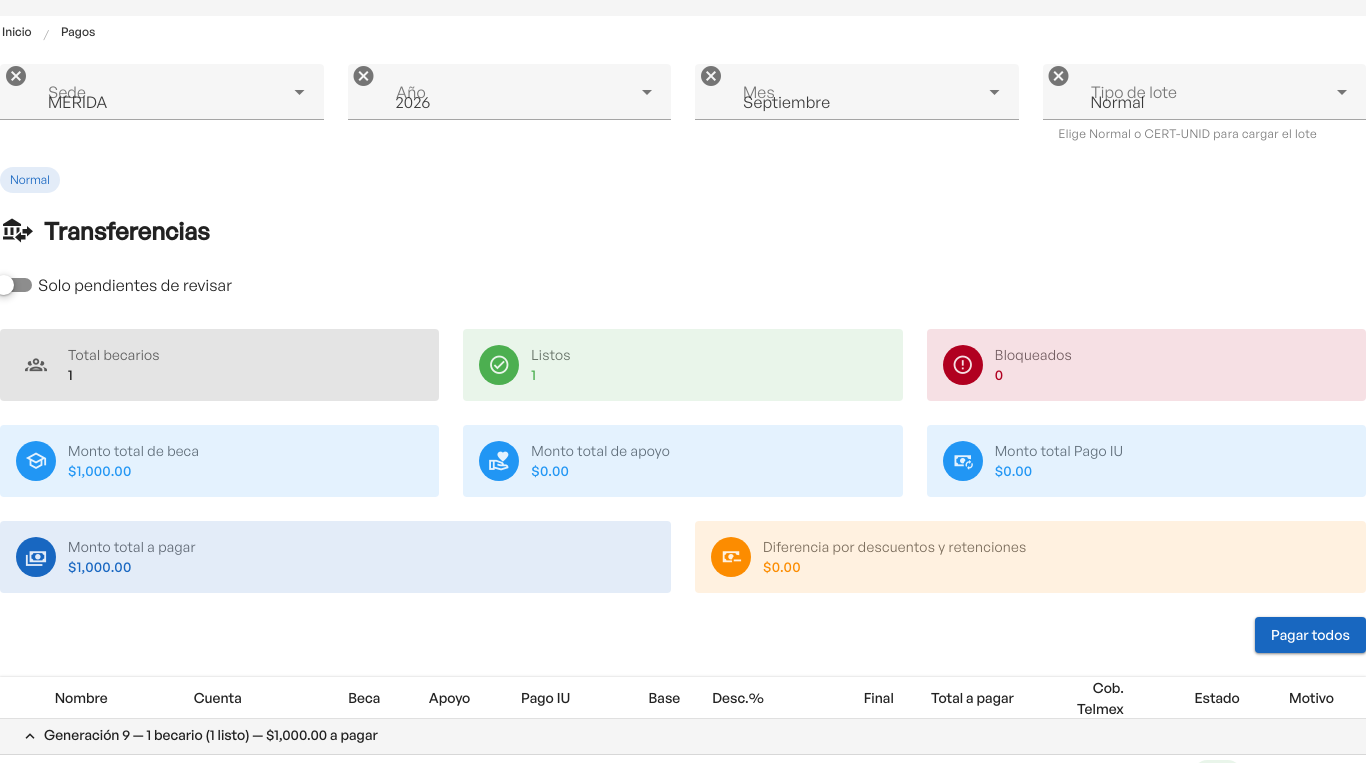
Scenario: PaymentsView › shows a distinct message when "Pagar todos" fails because the batch is stale (409 without batch_id)
What coordinates should you click on to do the following:
click the button "Pagar todos"
I would click on:
 (1310, 635)
Its box is [1255, 617, 1365, 653].
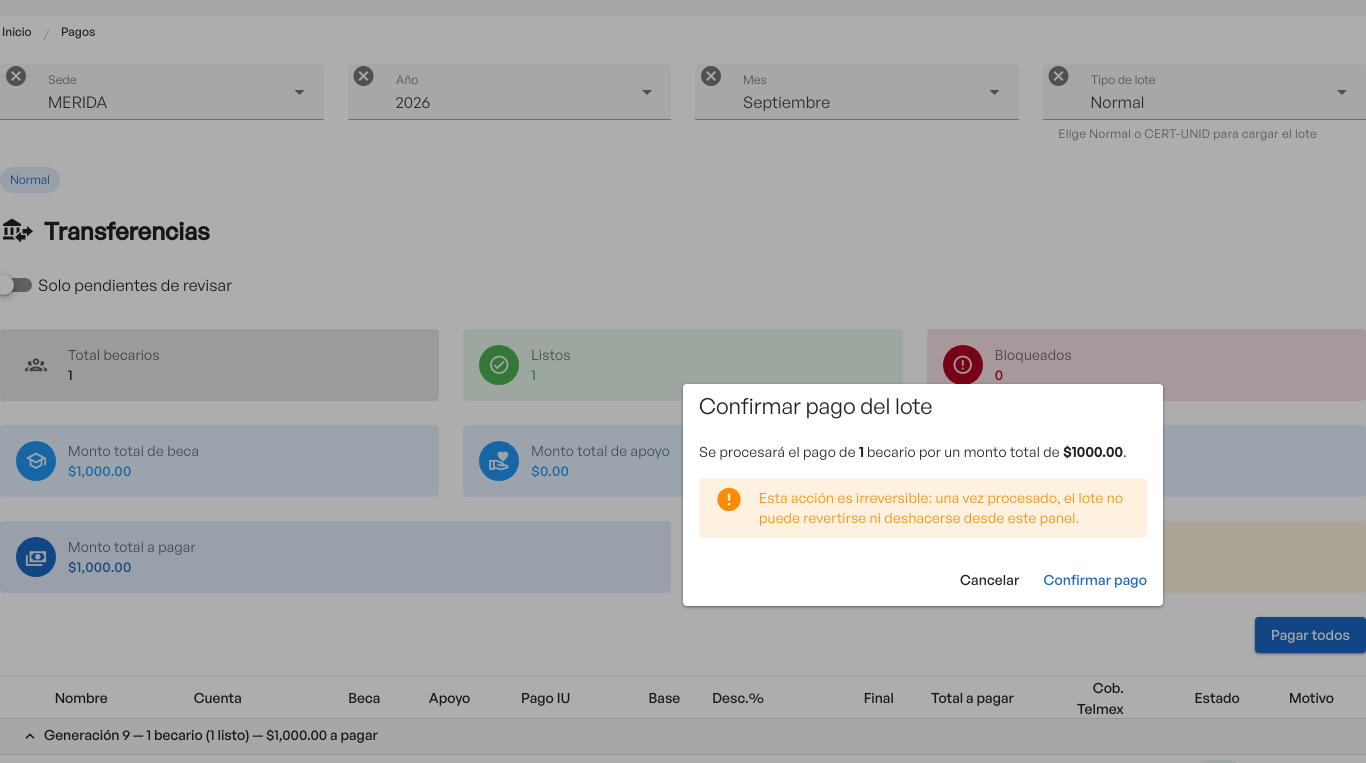
What coordinates should you click on to do the following:
click the button "Confirmar pago"
I would click on:
 (1095, 580)
Its box is [1035, 562, 1155, 598].
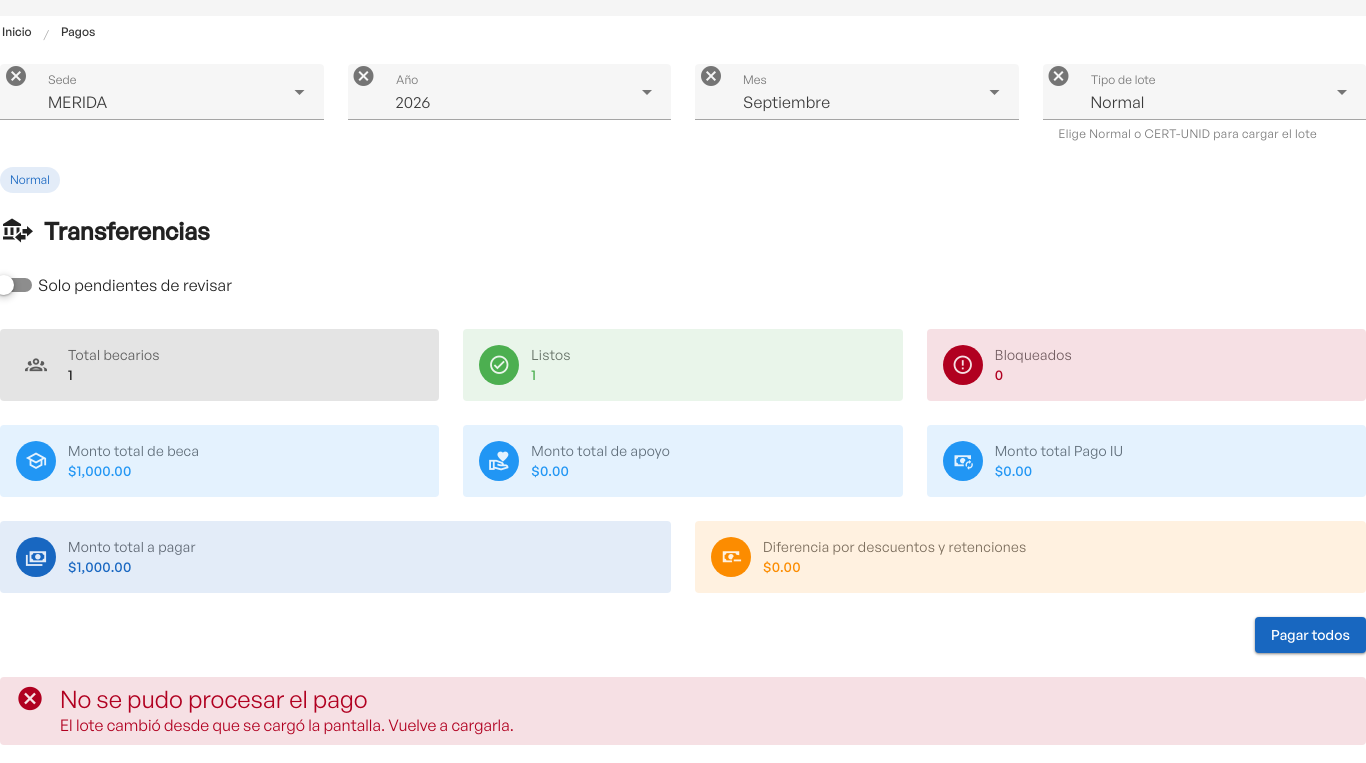
Expected: the text "El lote cambió desde que se cargó la pantalla" is shown, [60, 715, 514, 735]
